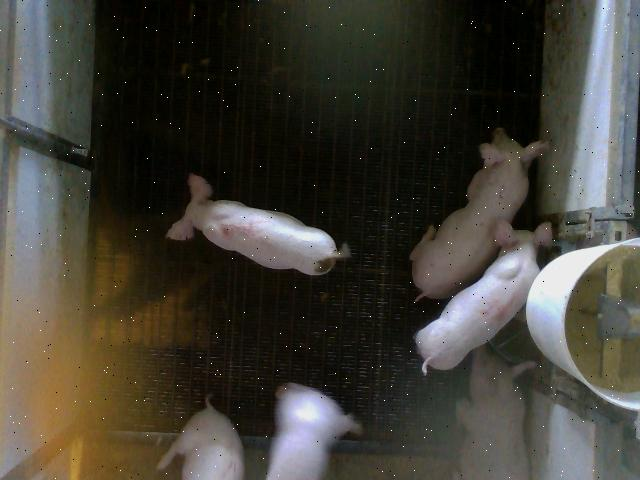pig-4: (416, 220, 552, 372)
pig-5: (167, 175, 350, 274)
